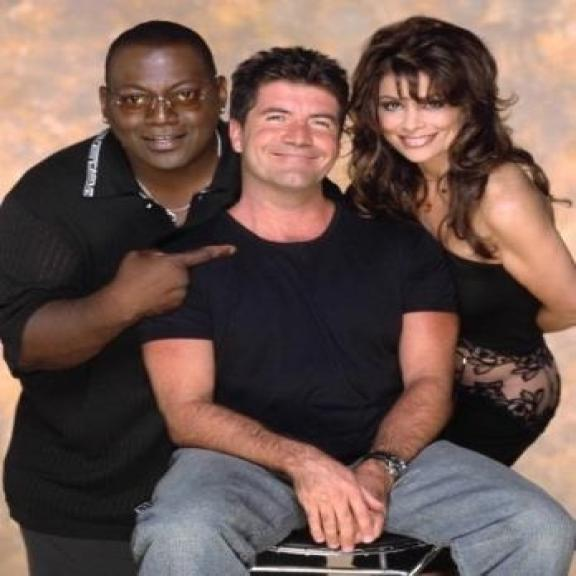face: (99, 46, 229, 173), (226, 82, 346, 197), (367, 64, 481, 168)
